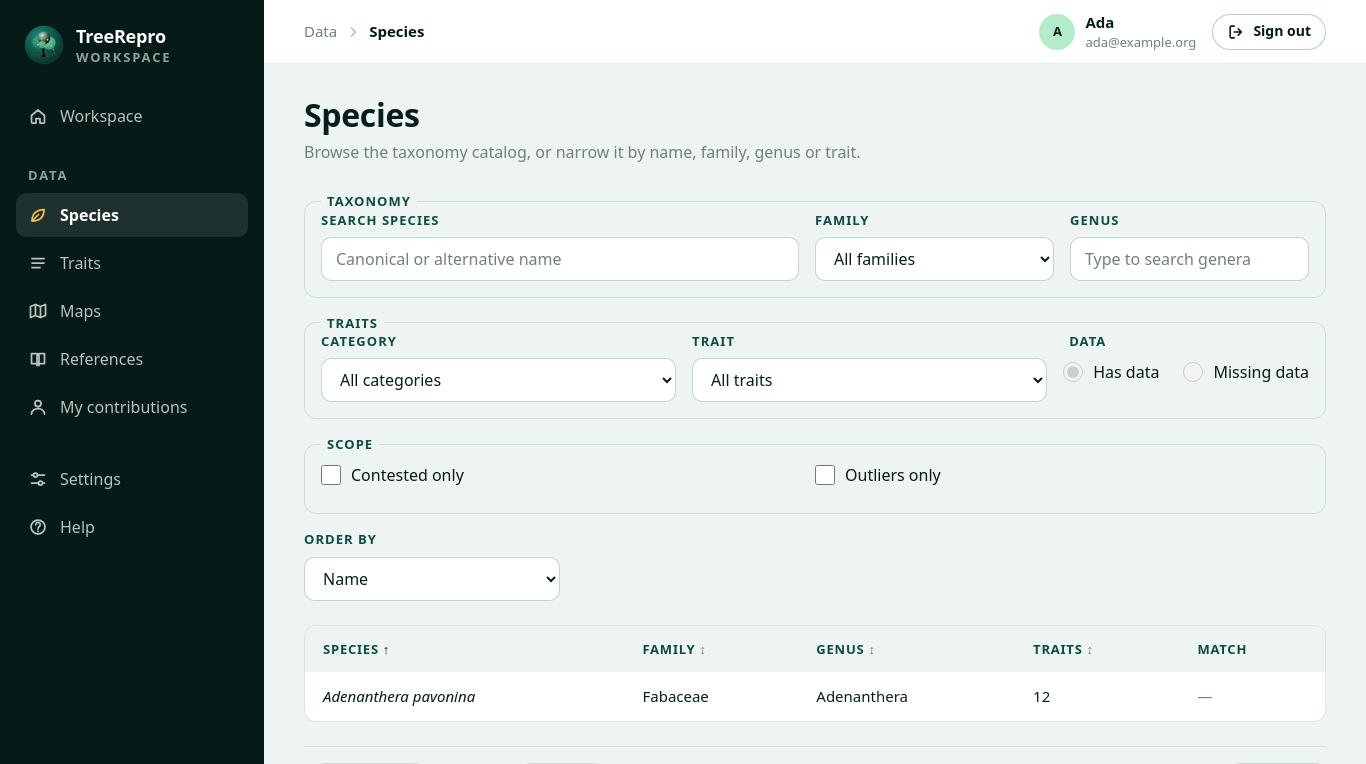
Test: RFC-60 R6 SpeciesSearchPage trait filters, order and the URL › writes the name to the URL once it settles, not once per keystroke
This screenshot has width=1366, height=764.
Check: the heading "Species" is shown, box [304,93,420,136]
Type "a" into the search field labelled "Search species" at (560, 259), box [321,237,799,281]
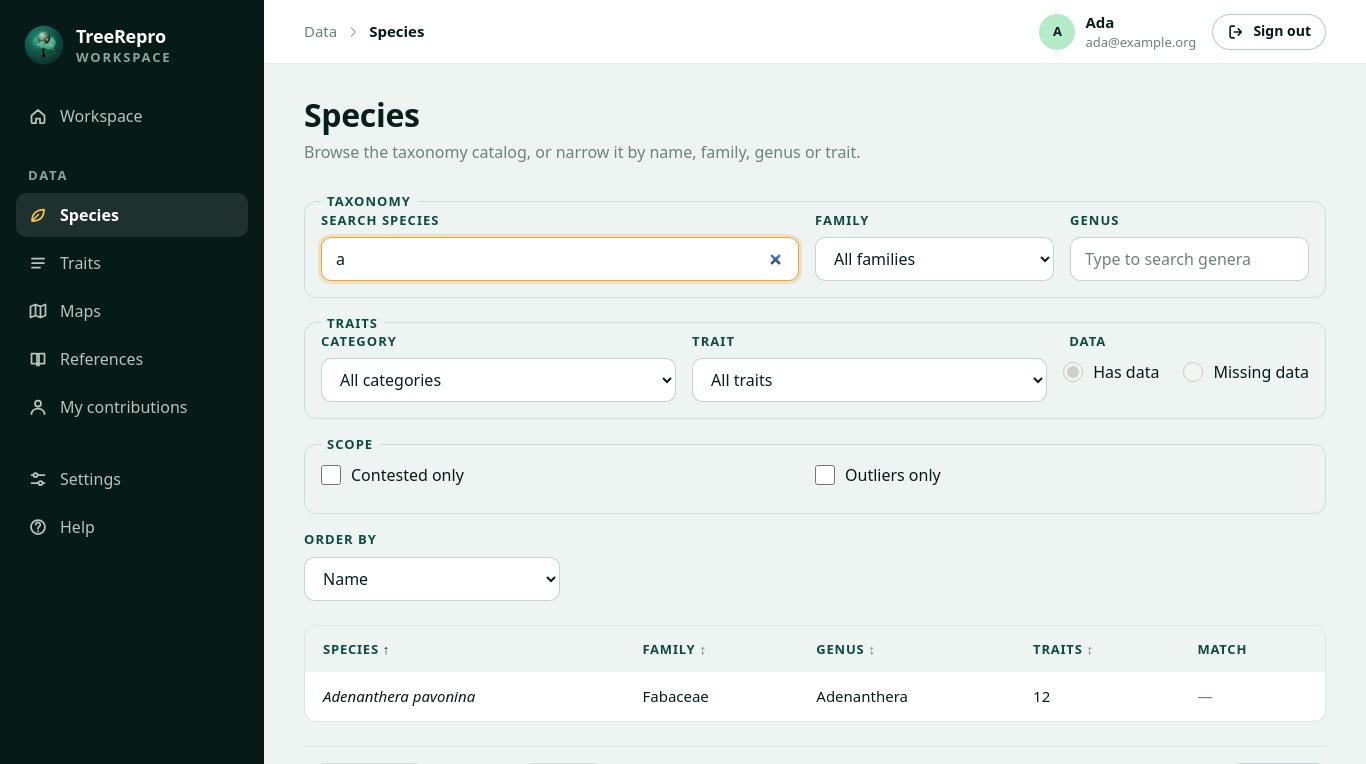
Type "d" into the search field labelled "Search species" at (560, 259), box [321,237,799,281]
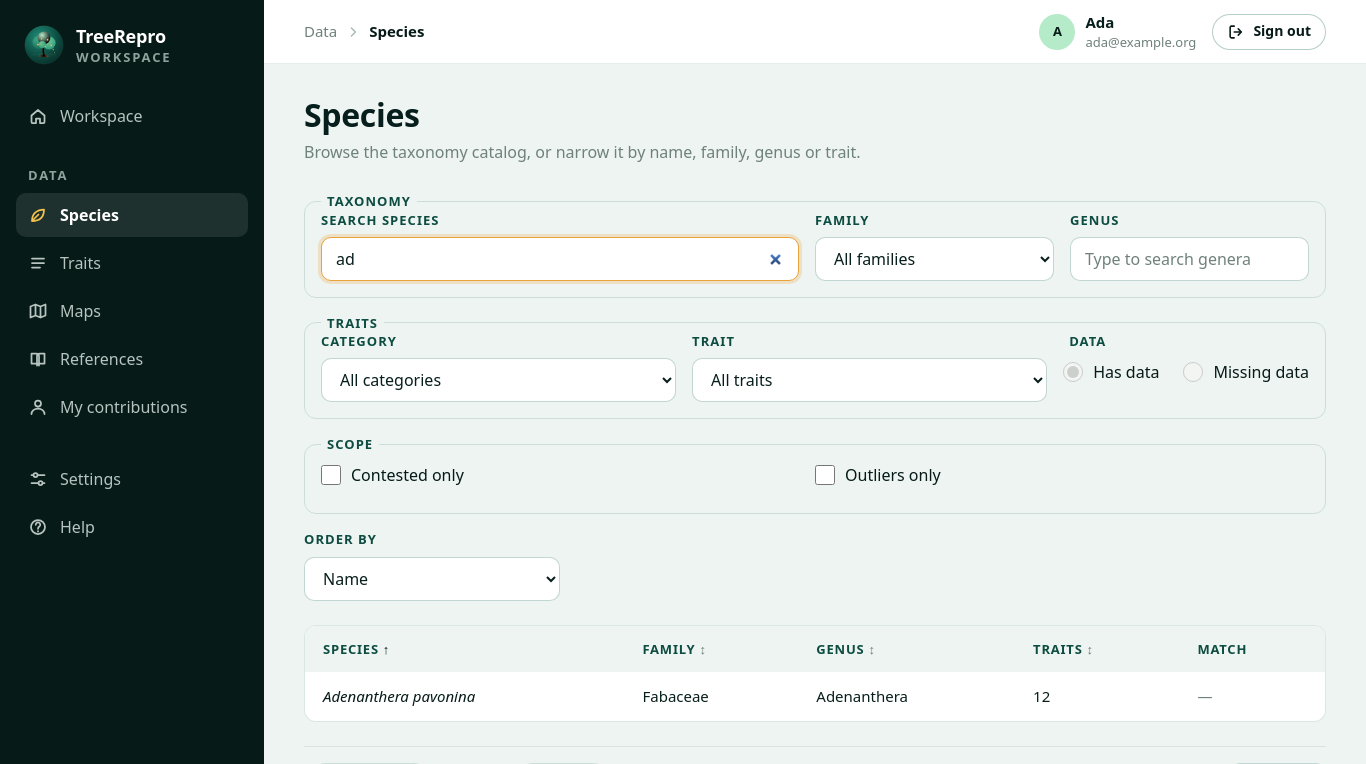
Check: the search field labelled "Search species" holds "ad", box [321,237,799,281]
